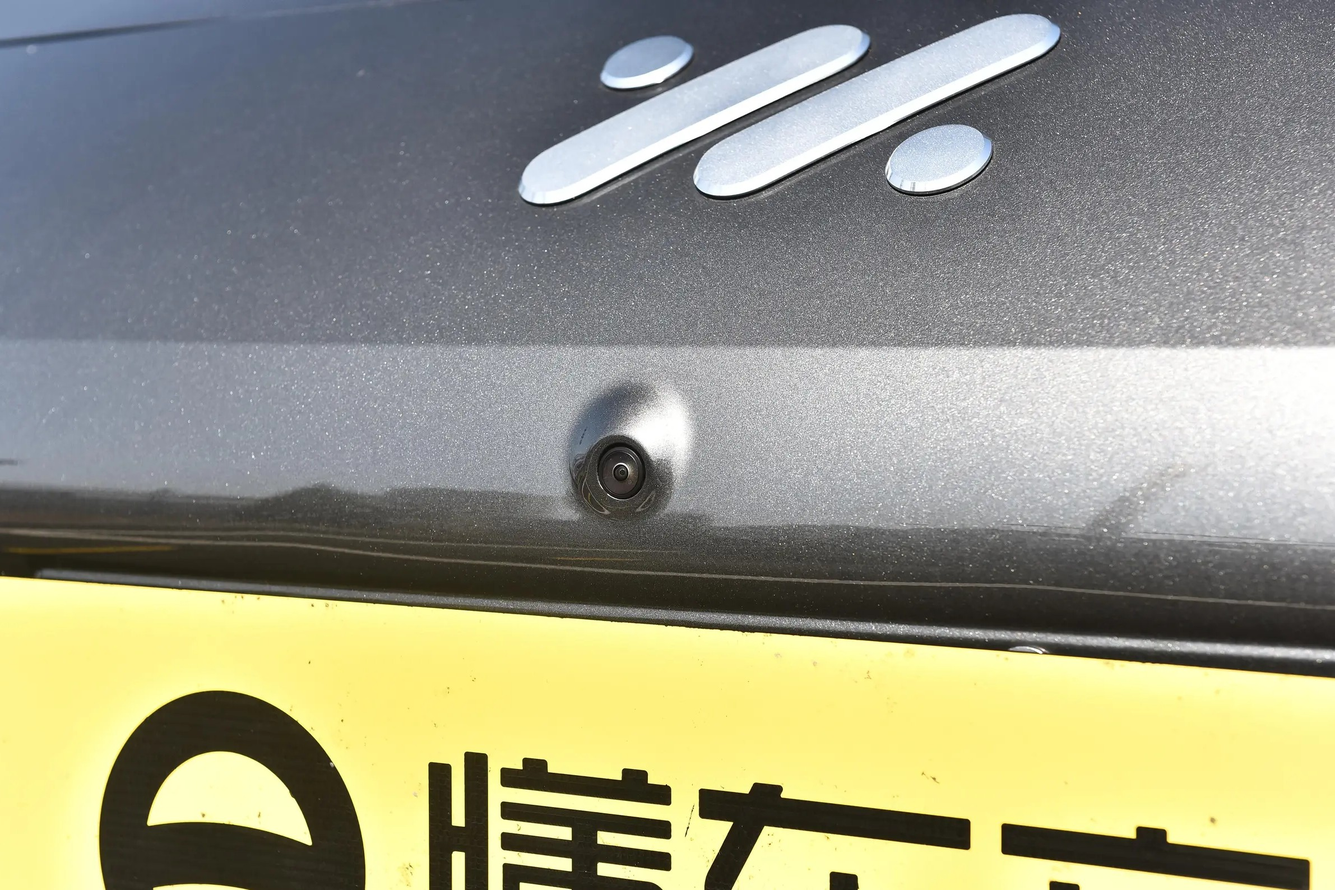IM: (519, 13, 1060, 203)
